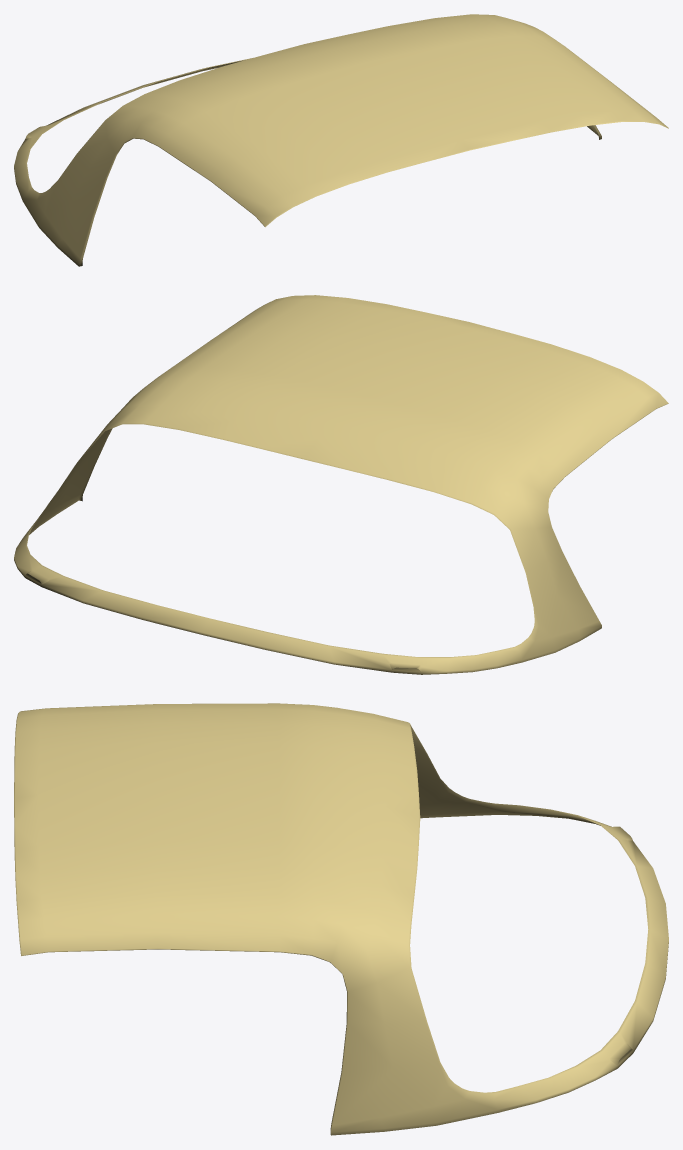
Rendered from MX5_Roof01_Duco.fbx.
The picture shows the model from 3 angles, top to bottom: view 1: azimuth 30°, elevation 25°; view 2: azimuth 150°, elevation 25°; view 3: azimuth 270°, elevation 25°; orthographic projection. The views are drawn at different scales.
Visible parts, largest first — view 1: MX5_Roof01_Duco; view 2: MX5_Roof01_Duco; view 3: MX5_Roof01_Duco.
Boxes of the visible parts, x1,y1,x2,y2 form: MX5_Roof01_Duco: (14,14,668,266); MX5_Roof01_Duco: (14,295,668,674); MX5_Roof01_Duco: (14,703,668,1135).
Size of the model in its own units: 141 by 39.95 by 125.
